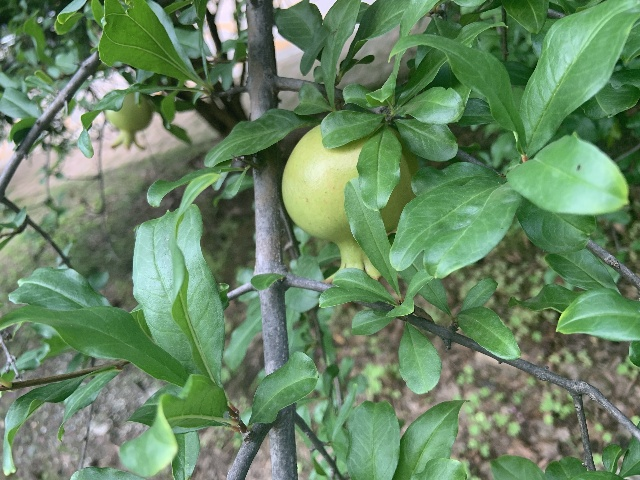mid-growth: (280, 124, 417, 284), (106, 91, 153, 151)
